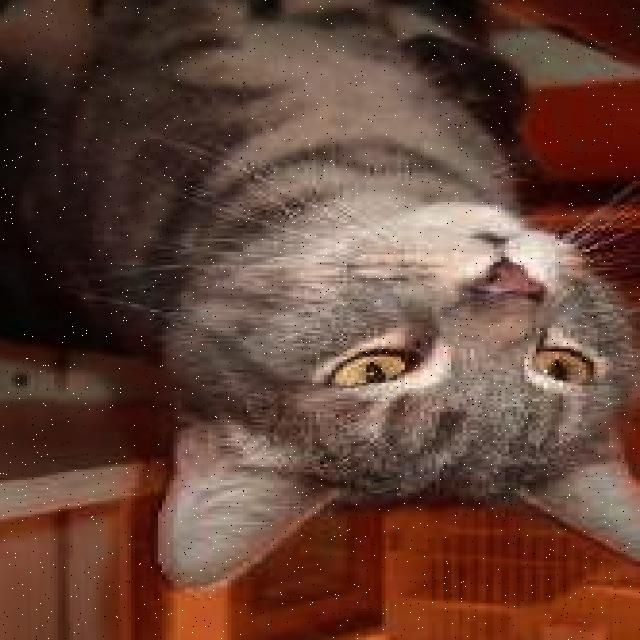Cat: (150, 184, 640, 590)
